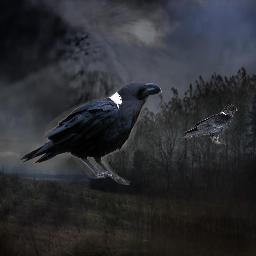Crow: (19, 82, 163, 186), (180, 104, 238, 145)
